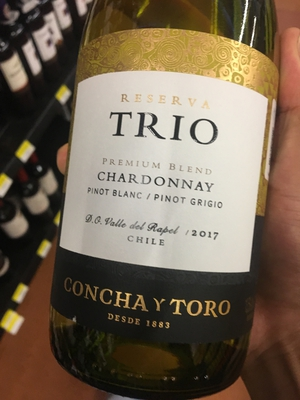trio chardonnay: (41, 6, 284, 398)
